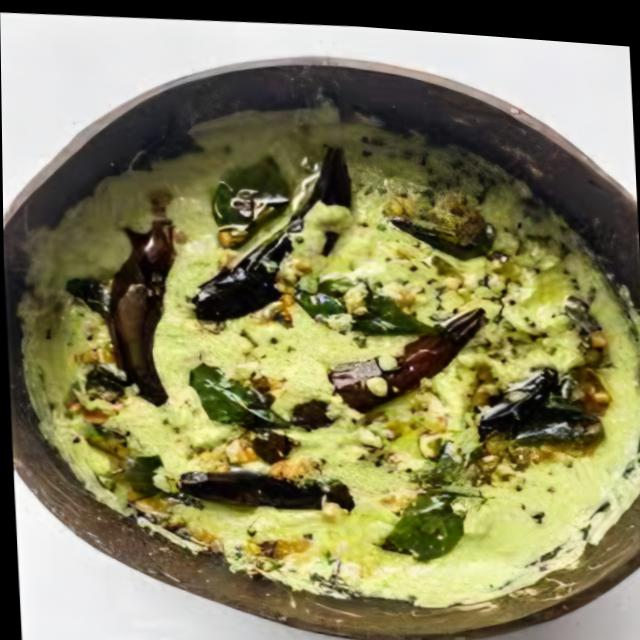WHITE CHUTNEY: (18, 101, 640, 606)
